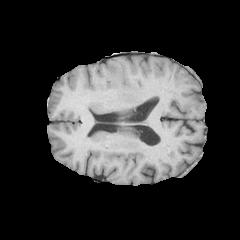glioma: (105, 63, 132, 101)
